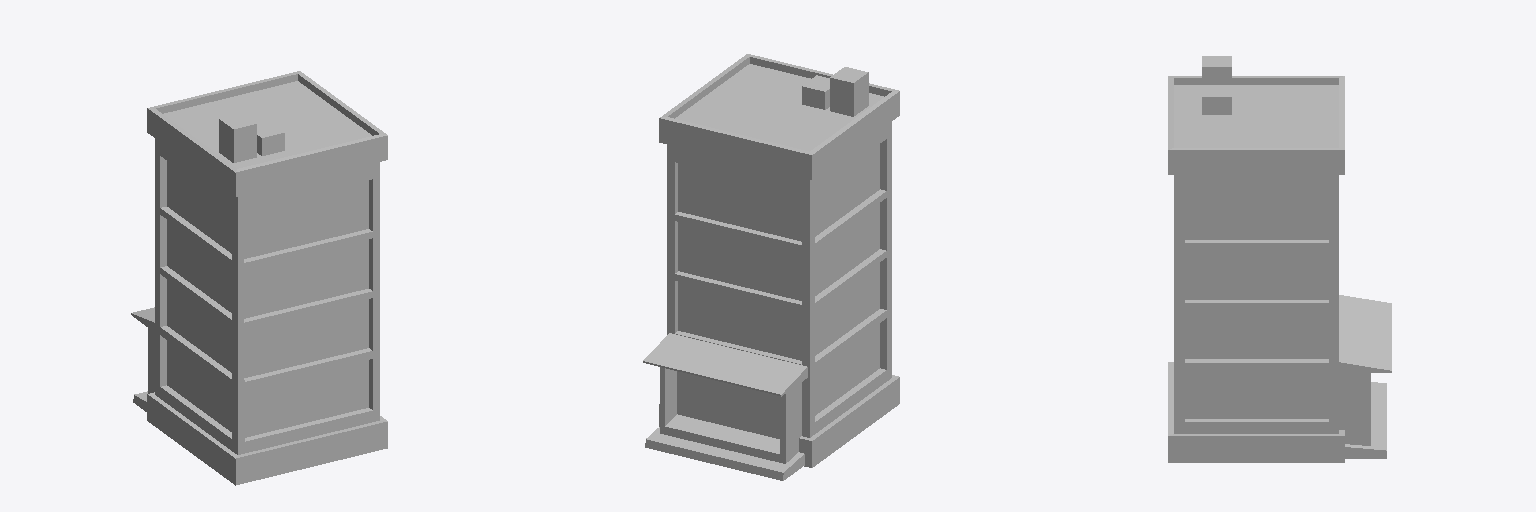
The model's file is build4.obj.
3 renders of one model, left to right at view 1: azimuth 30°, elevation 25°; view 2: azimuth 150°, elevation 25°; view 3: azimuth 270°, elevation 25°, orthographic.
Parts seen in each view (by area): view 1: House; view 2: House; view 3: House.
Boxes of the visible parts, x1=… form: House: x1=131, y1=71, x2=387, y2=485; House: x1=643, y1=54, x2=899, y2=480; House: x1=1168, y1=56, x2=1391, y2=462.
Size of the model in its own units: 232 by 493 by 293.